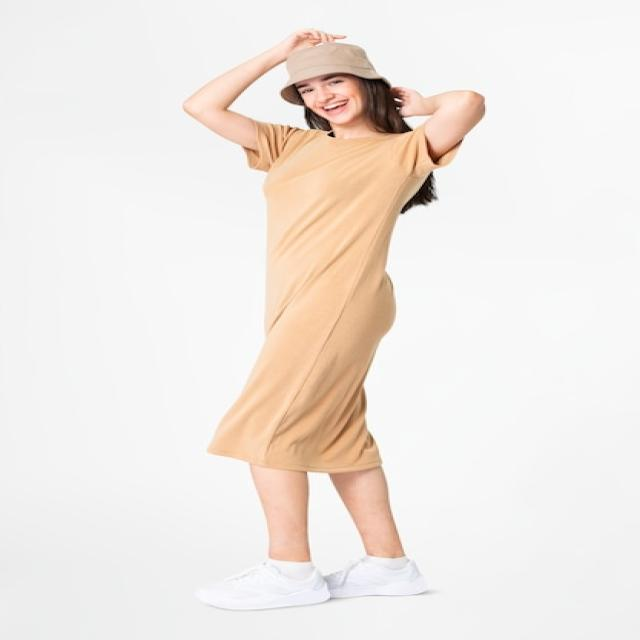Person: (182, 28, 483, 611)
